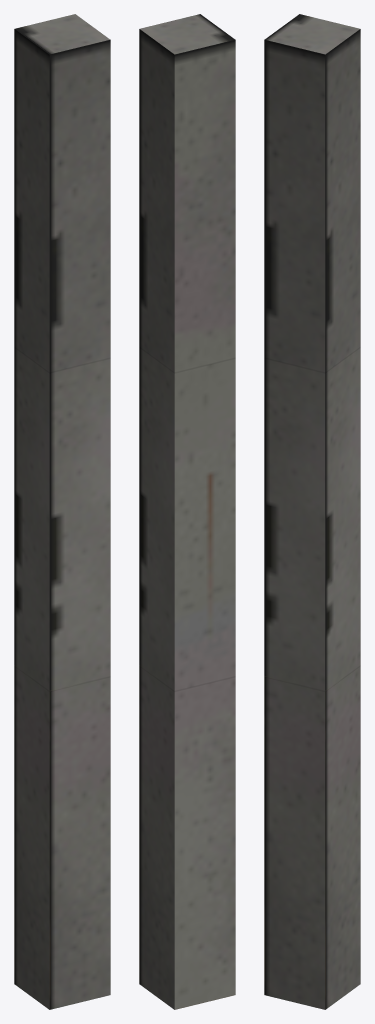
File: wall_post_panel.fbx
3 views of the same model, side by side, from view 1: azimuth 30°, elevation 25°; view 2: azimuth 210°, elevation 25°; view 3: azimuth 330°, elevation 25° (orthographic).
Parts seen in each view (by area): view 1: wall_post_panel; view 2: wall_post_panel; view 3: wall_post_panel.
Boxes of the visible parts, x1=… form: wall_post_panel: x1=14, y1=14, x2=110, y2=1009; wall_post_panel: x1=139, y1=14, x2=235, y2=1009; wall_post_panel: x1=264, y1=14, x2=360, y2=1009.
Bounding box in the file's own units: 0.2 × 3 × 0.2.
